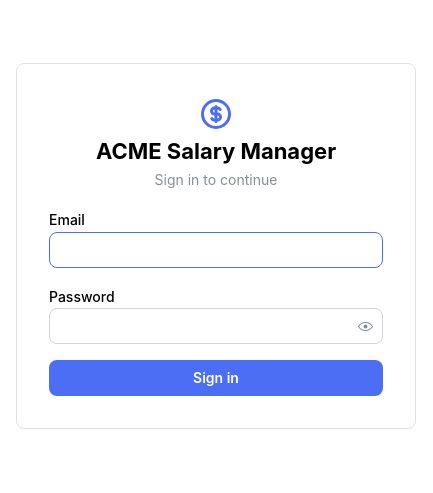
it: LoginPage › explains when sign-in is rate limited
Type "hr@acme.example" into the field labelled "Email".
click(216, 250); type("hr@acme.example")  # box [49,232,383,268]
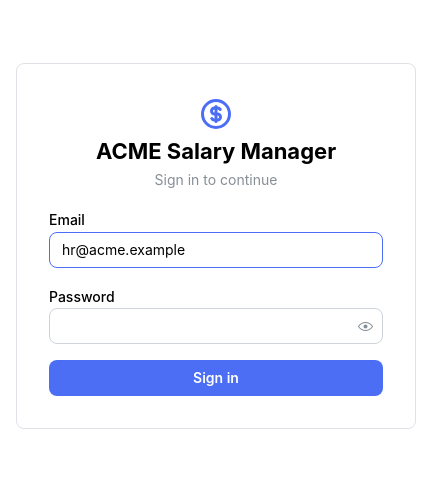
Type "wrong-password" into the password field labelled "Password".
click(216, 326); type("wrong-password")  # box [50,309,382,343]
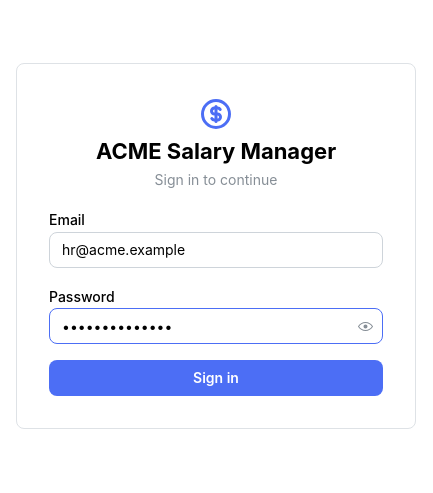
Click the button "Sign in".
click(216, 378)  # box [49,360,383,396]
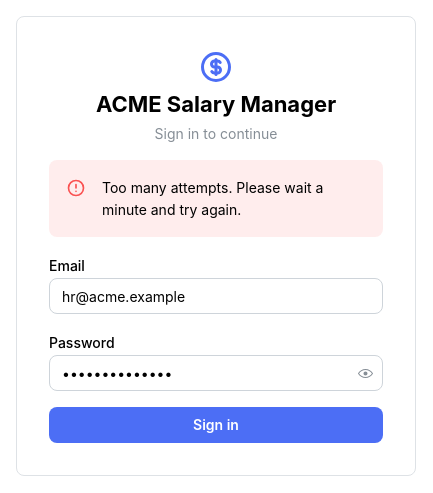
Now the message shows "Too many attempts", box [102,179,323,218]
